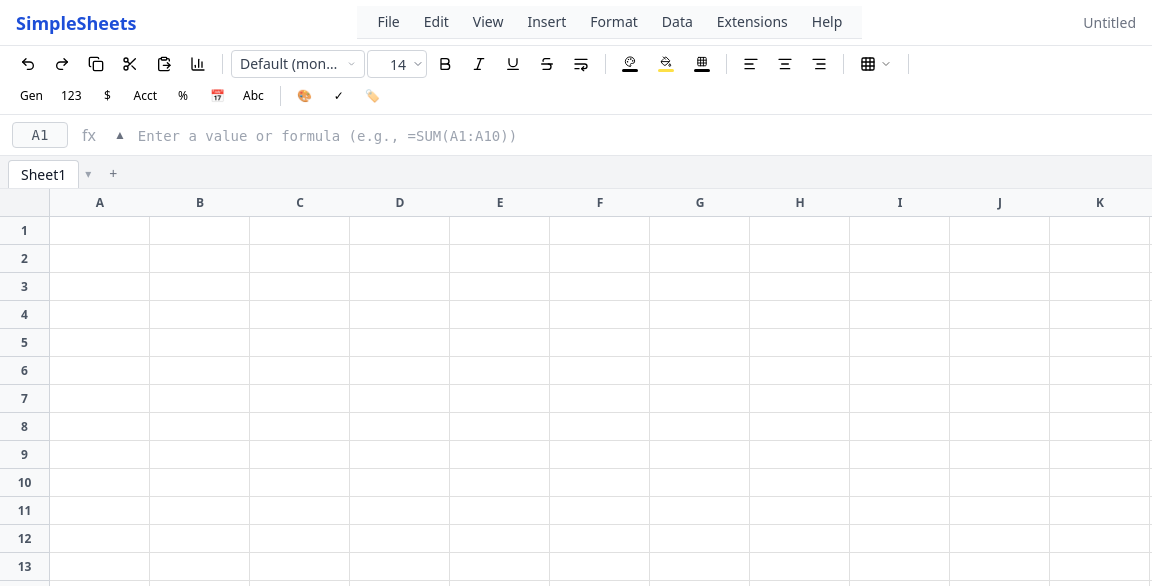
Scenario: App Chart Integration › shows chart type selector in dialog
Click the button "Insert": {"x": 547, "y": 22} [516,8,578,36]
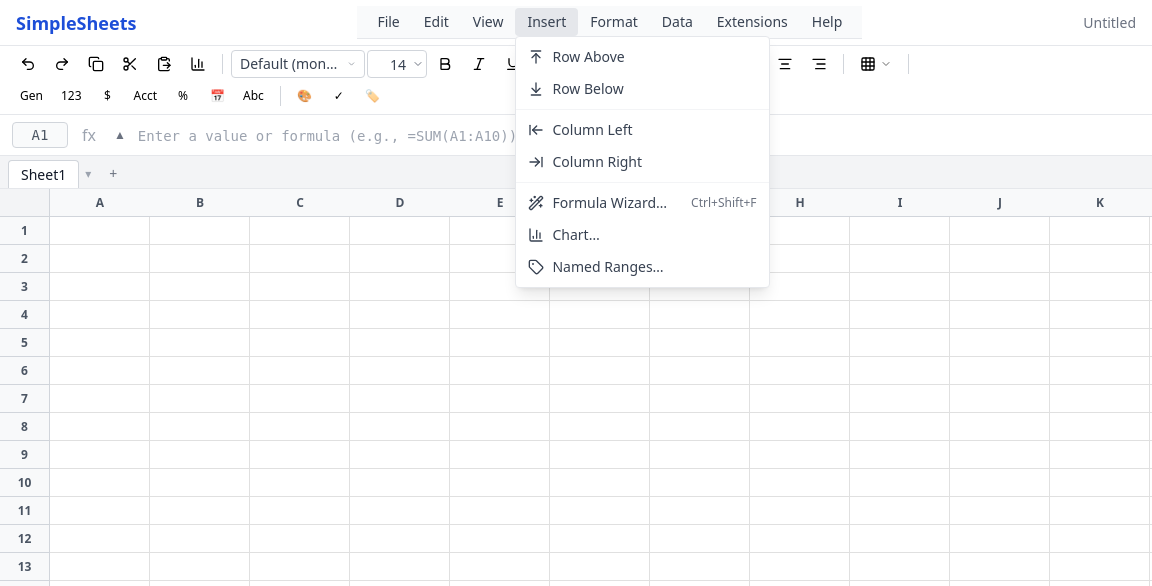
Click the menu item "Chart…": {"x": 564, "y": 234} [528,225,600,244]
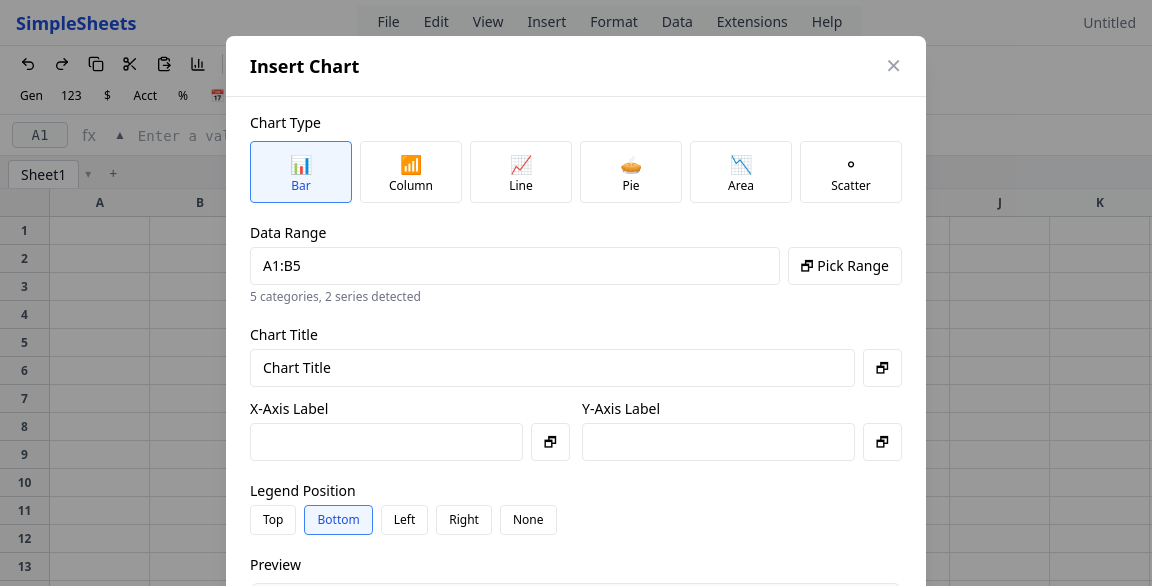
Check: the button with test id "chart-type-bar" is shown, box [250,141,352,203]
Check: the button with test id "chart-type-line" is shown, box [470,141,572,203]
Check: the button with test id "chart-type-pie" is shown, box [580,141,682,203]
